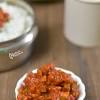curd_rice: (1, 2, 35, 44)
